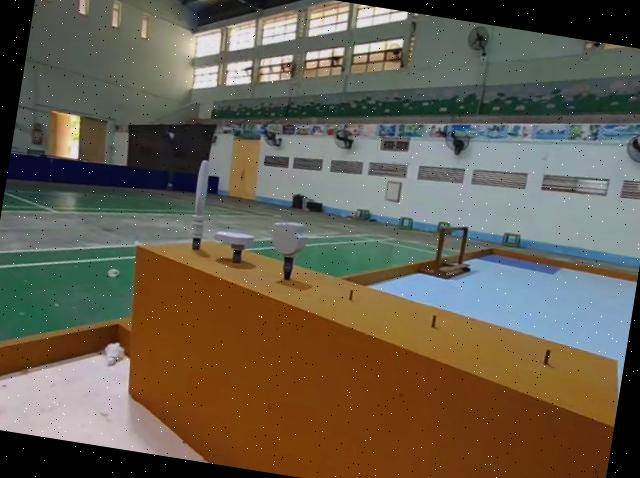Fist: (262, 216, 309, 284)
Hand: (211, 226, 254, 265)
Sph: (179, 157, 216, 250)
